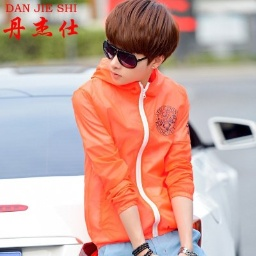face: (102, 1, 179, 88)
